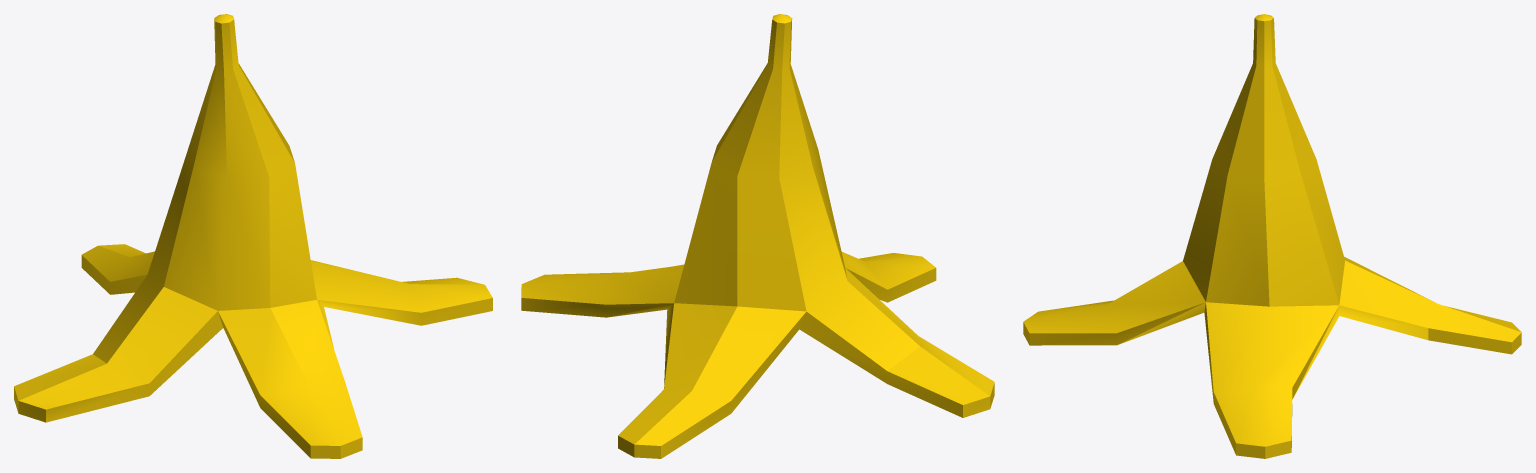
The model's file is Sampah7.fbx.
The picture shows the model from 3 angles, left to right: view 1: azimuth 30°, elevation 25°; view 2: azimuth 150°, elevation 25°; view 3: azimuth 270°, elevation 25°; orthographic projection. The views are drawn at different scales.
Visible parts, largest first — view 1: Banana_Peel.001; view 2: Banana_Peel.001; view 3: Banana_Peel.001.
Part boxes in pixels (x1=…): Banana_Peel.001: x1=14, y1=14, x2=492, y2=458; Banana_Peel.001: x1=521, y1=14, x2=994, y2=458; Banana_Peel.001: x1=1023, y1=14, x2=1521, y2=458.
Bounding box in the file's own units: 56.52 × 40.04 × 55.54.
